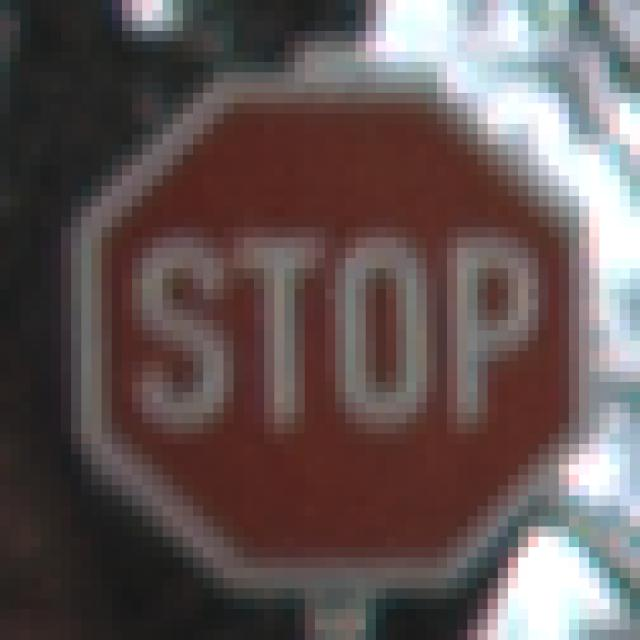STOP: (62, 63, 590, 589)
